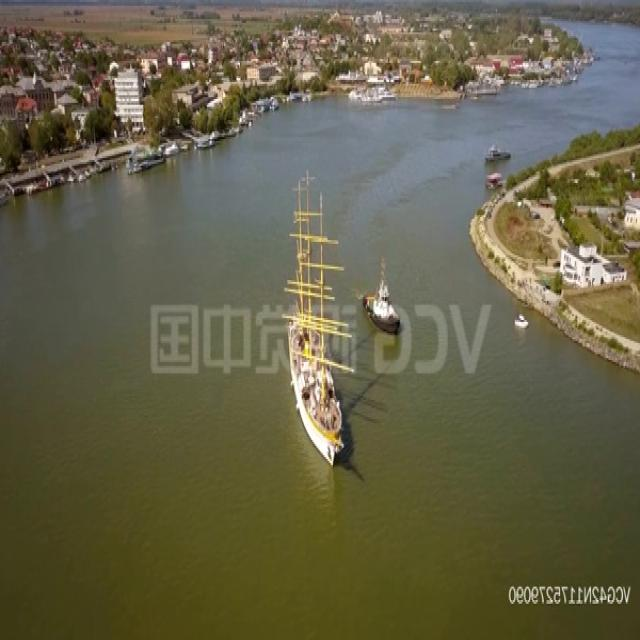houseboat: (364, 256, 402, 335), (487, 142, 512, 162), (486, 166, 502, 191), (514, 310, 528, 334)
sailboat: (285, 168, 351, 469)
